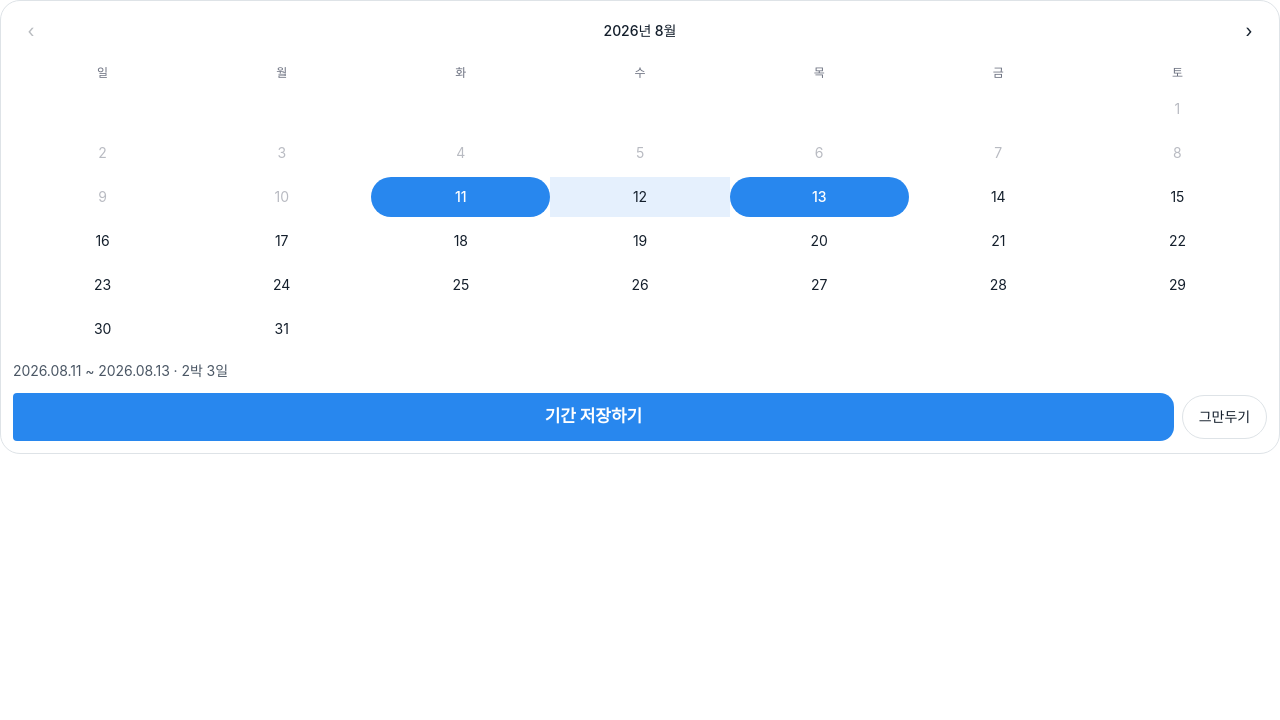
Scenario: TripDatesForm — 줄이기 확인 (PRD 엣지: 데이터 손실 금지·놀람 방지) › 그만두면 저장하지 않고 날짜를 다시 고르게 둔다
The image size is (1280, 720).
Click the button named "2026년 8월 11일" at x=461, y=197, box [371,177,550,217]
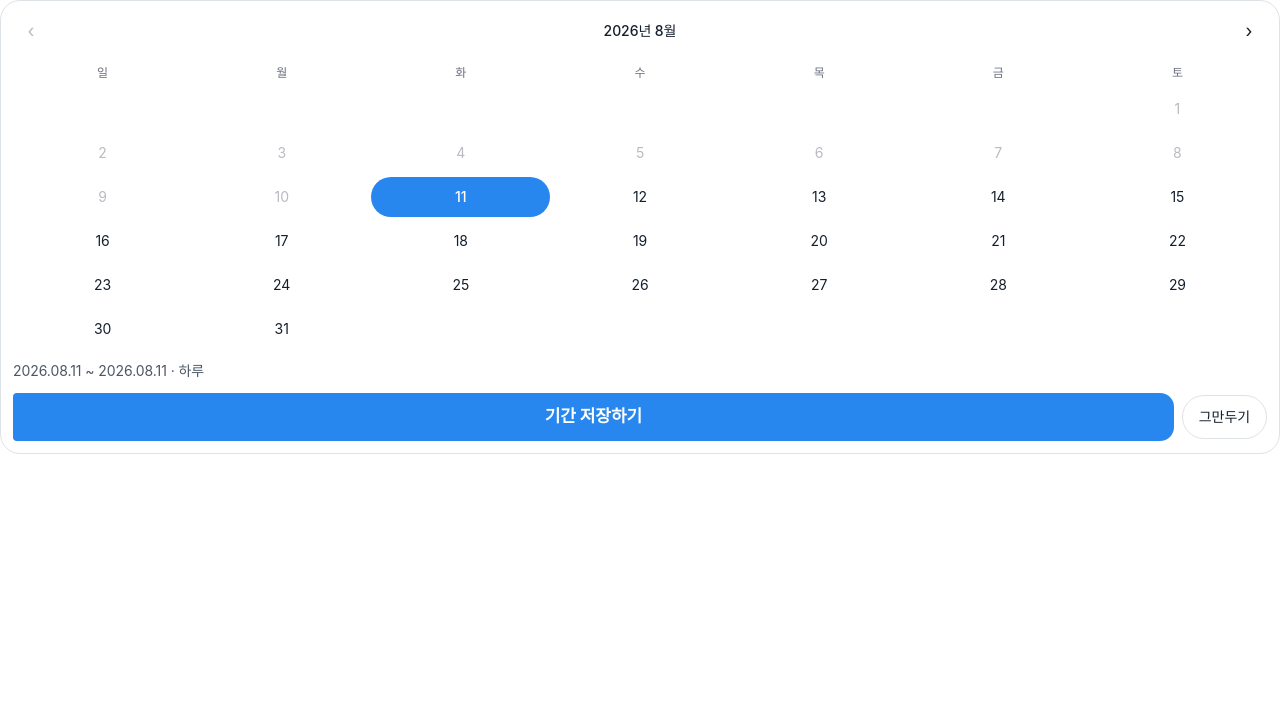
Click the button named "2026년 8월 12일" at x=640, y=197, box [550,177,730,217]
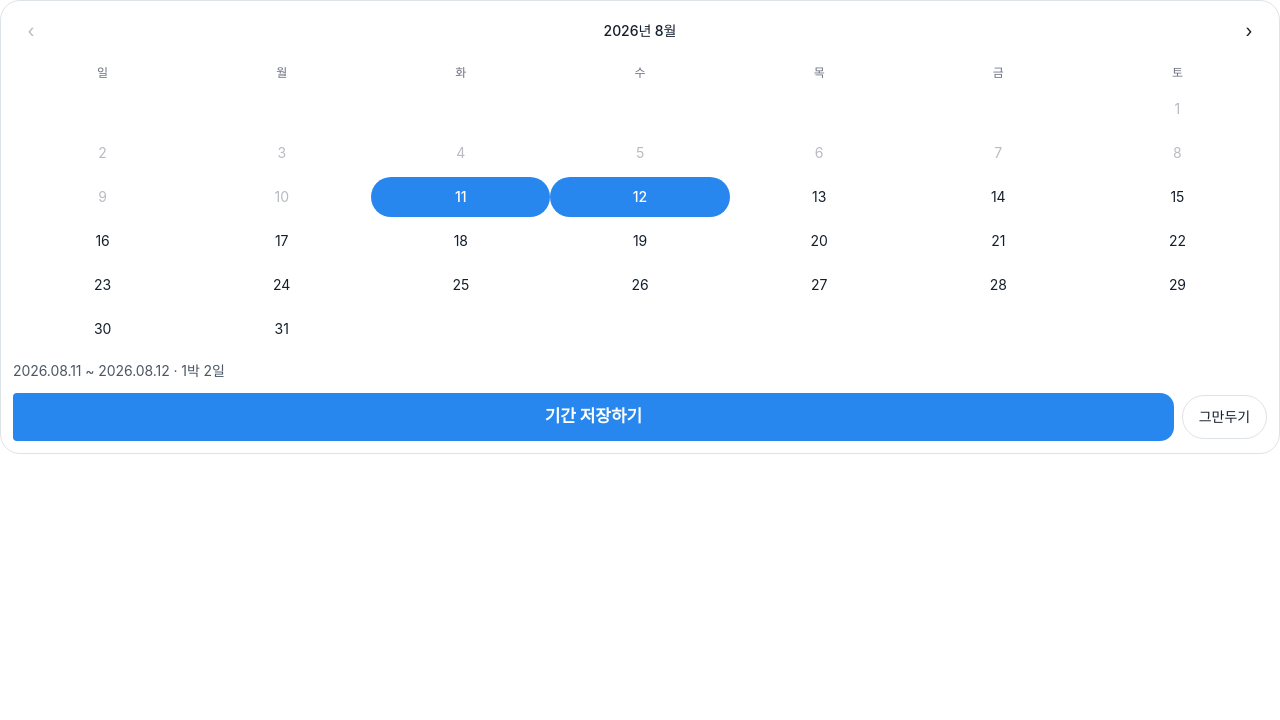
Click the button "기간 저장하기" at x=593, y=417, box [13,393,1174,441]
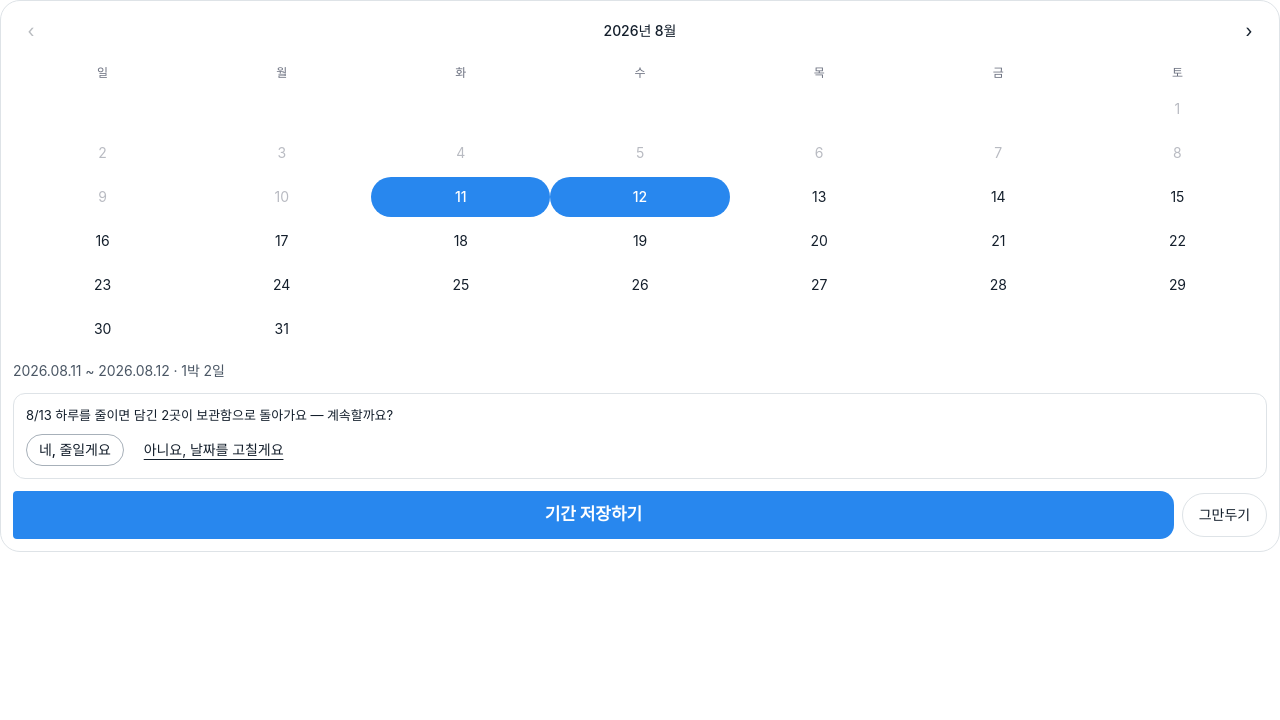
Click the button "아니요, 날짜를 고칠게요" at x=214, y=450, box [132,434,295,466]
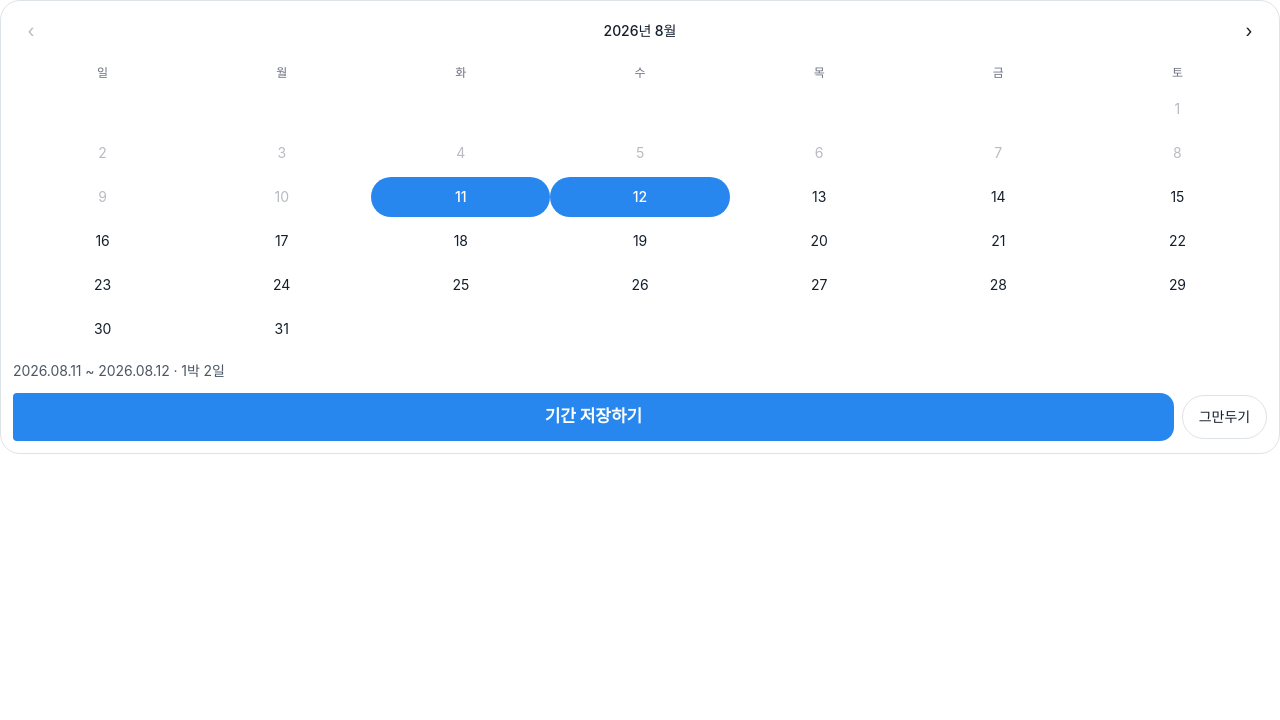
Expected: the message "8/13 하루를 줄이면 담긴 2곳이 보관함으로 돌아가요 — 계속할까요? 네, 줄일게요 아니요, 날짜를 고칠게요" is gone
